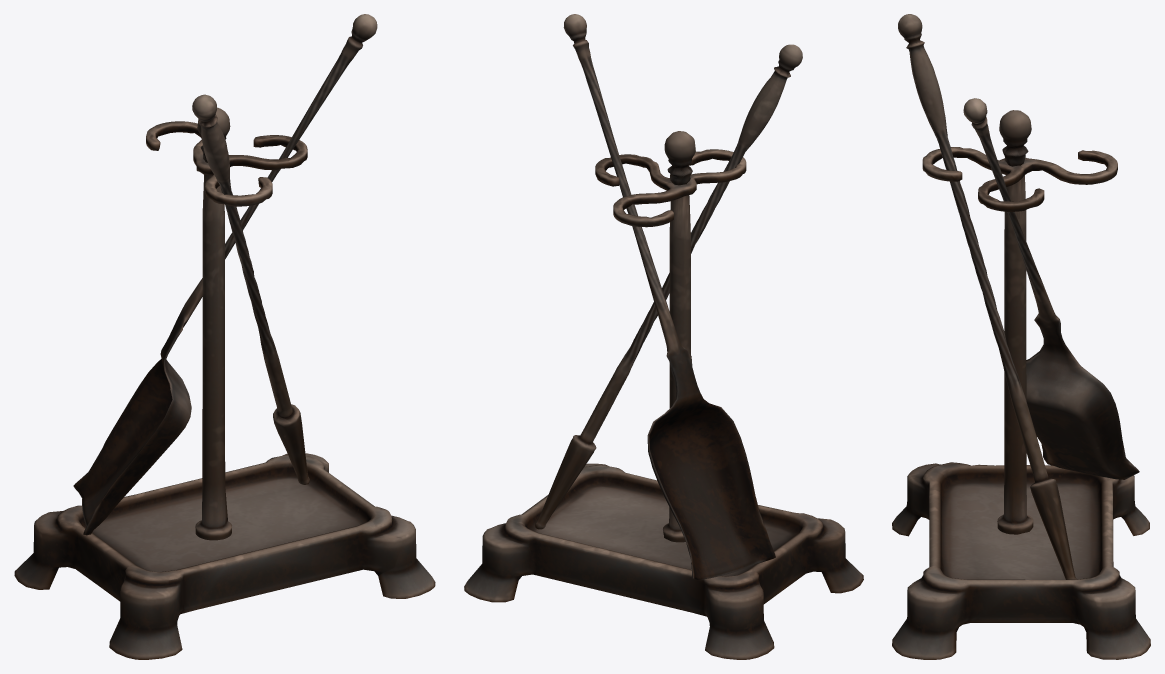
File: SM_FireToolsASh.fbx
The picture shows the model from 3 angles, left to right: view 1: azimuth 30°, elevation 25°; view 2: azimuth 150°, elevation 25°; view 3: azimuth 270°, elevation 25°; orthographic projection. The views are drawn at different scales.
Visible parts, largest first — view 1: SM_FireToolsASh_LOD0; view 2: SM_FireToolsASh_LOD0; view 3: SM_FireToolsASh_LOD0.
Boxes of the visible parts, bbox=[...] form: SM_FireToolsASh_LOD0: bbox=[14, 14, 435, 659]; SM_FireToolsASh_LOD0: bbox=[464, 14, 863, 659]; SM_FireToolsASh_LOD0: bbox=[892, 14, 1150, 659].
Bounding box in the file's own units: 96.41 × 69.83 × 161.
1 material, 1 textured.
